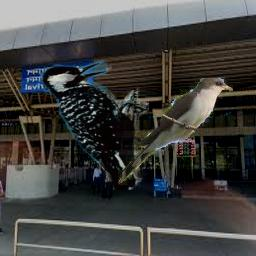Cuckoo: (114, 77, 233, 185)
Woodpecker: (37, 60, 149, 190)
